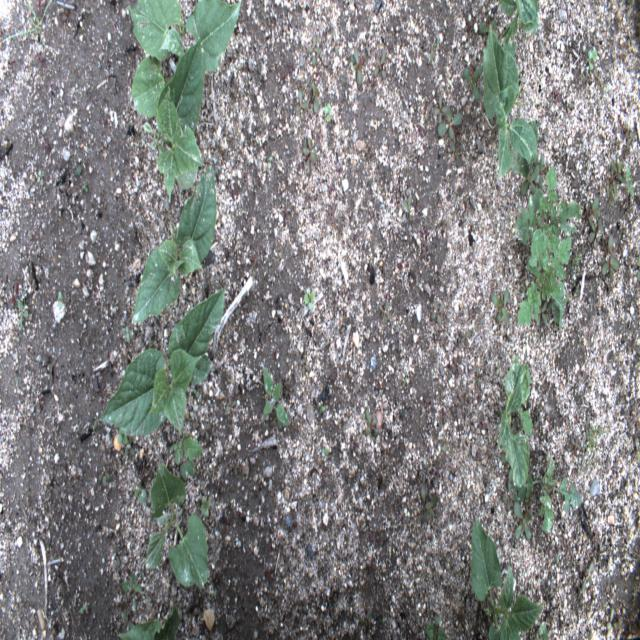crop: (97, 285, 227, 437), (131, 162, 216, 324), (126, 0, 242, 118), (143, 38, 205, 206), (469, 516, 549, 640), (483, 24, 539, 182), (145, 462, 210, 590), (497, 356, 532, 487), (497, 0, 540, 62), (116, 600, 181, 639)
weed: (514, 164, 582, 253), (517, 229, 572, 333), (507, 458, 583, 532), (1, 0, 52, 45), (169, 432, 204, 481), (262, 367, 290, 428), (605, 158, 634, 207), (601, 234, 620, 282), (463, 61, 483, 102), (301, 135, 321, 176), (437, 108, 462, 140), (513, 502, 533, 540), (350, 46, 368, 86), (489, 291, 510, 324), (520, 164, 540, 197), (426, 614, 447, 640), (432, 95, 448, 127), (588, 217, 603, 250), (448, 138, 464, 167), (364, 407, 379, 437), (585, 197, 601, 225), (307, 34, 320, 67), (374, 49, 387, 80), (121, 572, 141, 592), (294, 88, 309, 113), (479, 15, 498, 34), (135, 482, 148, 507), (18, 298, 28, 328), (98, 461, 109, 487), (303, 288, 315, 311), (201, 496, 211, 518), (588, 49, 598, 71), (58, 291, 65, 309)
